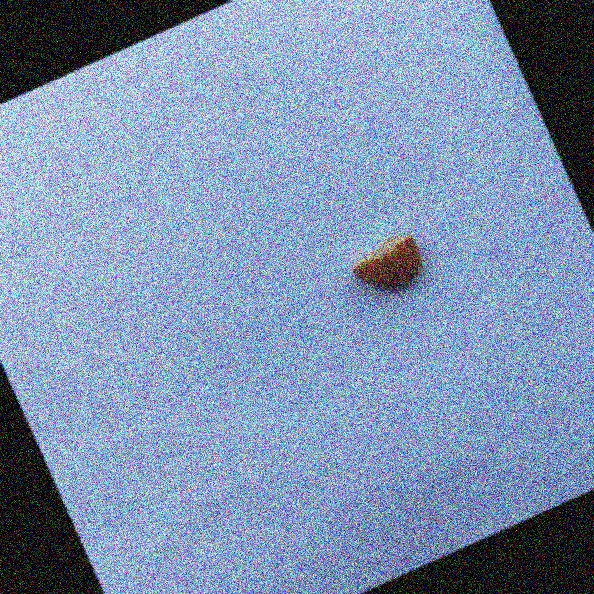grade4: (337, 223, 438, 311)
